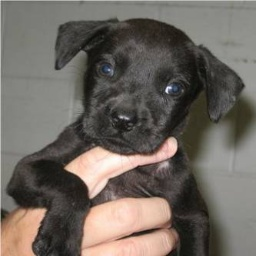dog: (16, 12, 244, 256)
